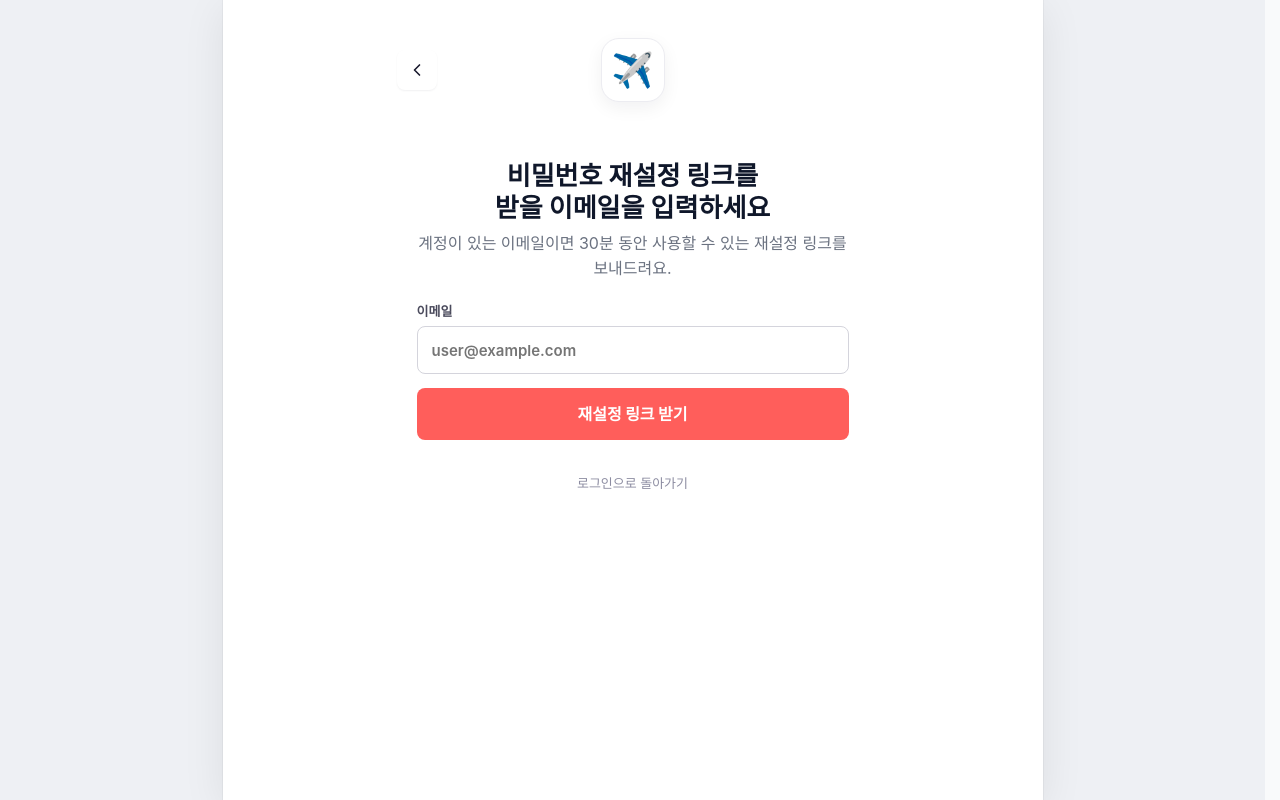
Travel Hunter app — profile, invites, OAuth & sharing › shows missing email delivery configuration on the forgot password page
The width and height of the screenshot is (1280, 800).
Type "test.user@example.com" into the field labelled "이메일" at (632,350), box top-left (416, 326), bottom-right (848, 374)
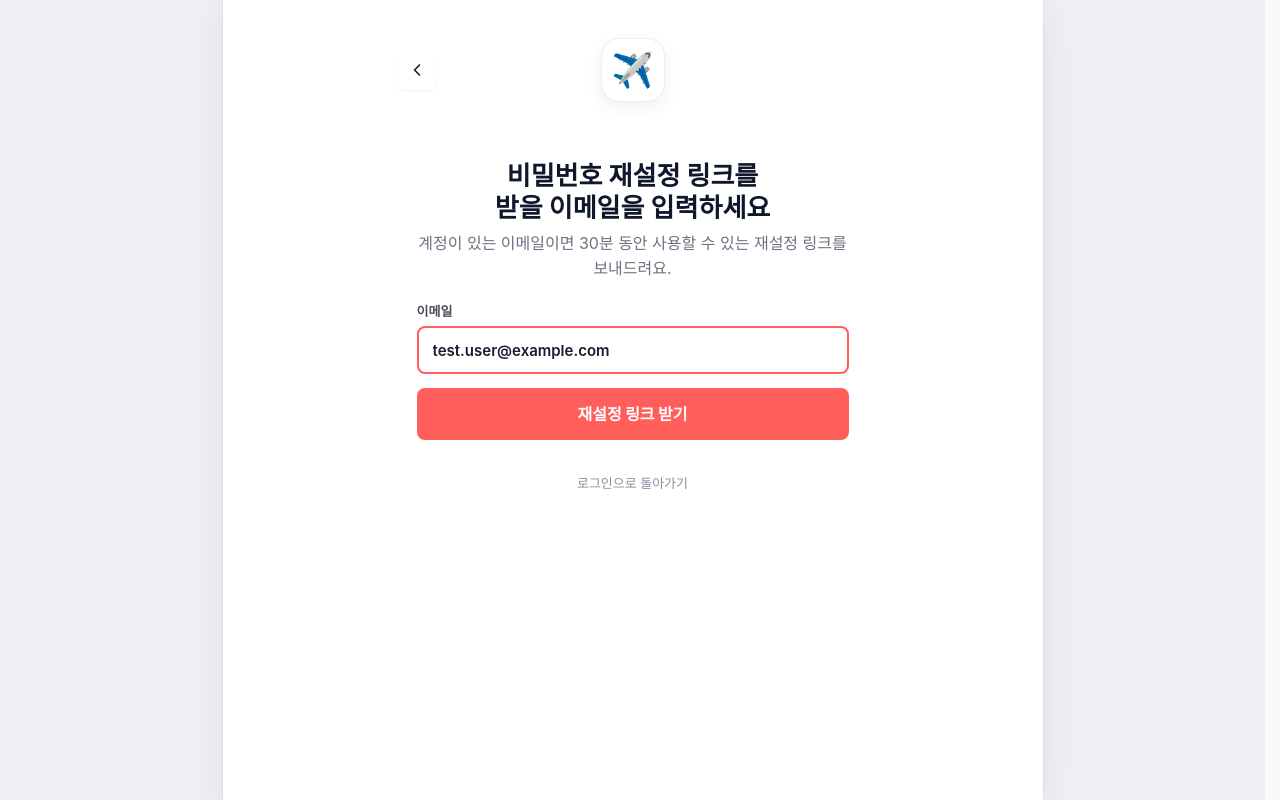
Click the button "재설정 링크 받기" at (632,414), box top-left (416, 388), bottom-right (848, 440)
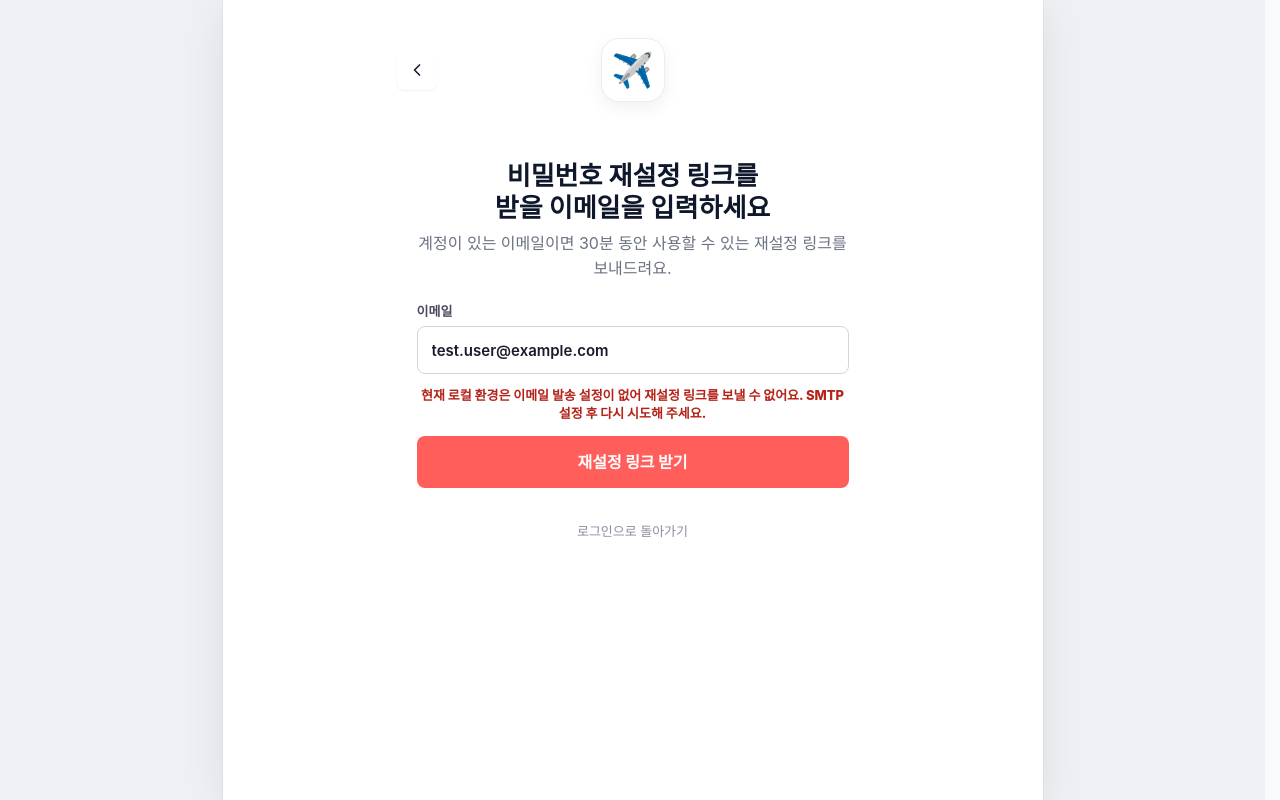
Expected: the text "현재 로컬 환경은 이메일 발송 설정이 없어 재설정 링크를 보낼 수 없어요. SMTP 설정 후 다시 시도해 주세요." is shown, top-left (416, 386), bottom-right (848, 422)
